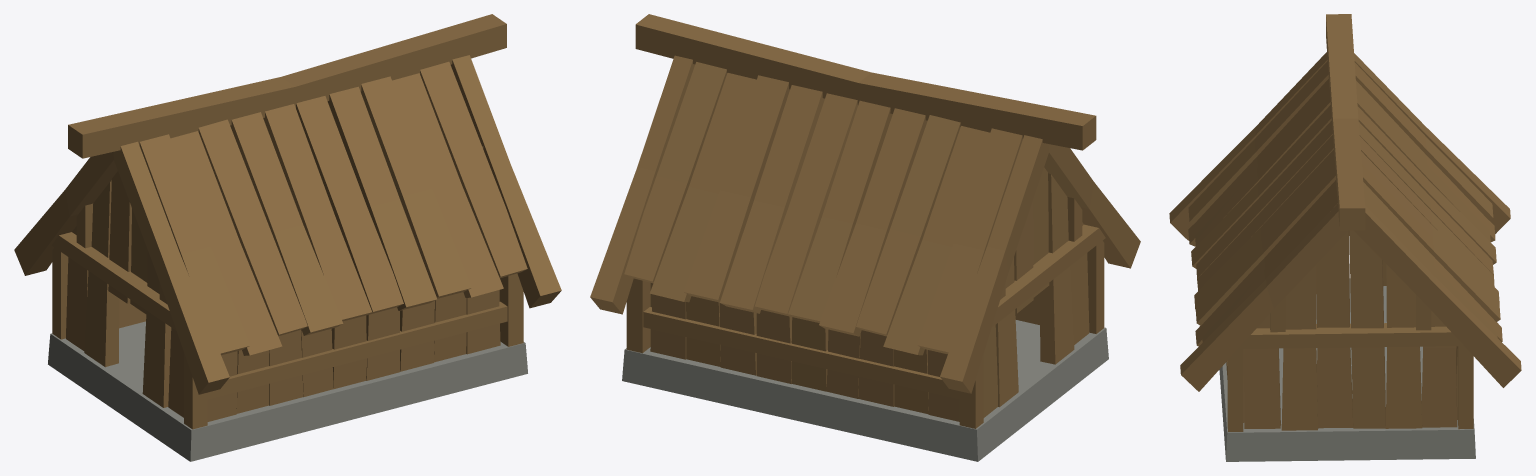
Rendered from houses_firstage_1_level3_lev1.glb.
The picture shows the model from 3 angles, left to right: view 1: azimuth 30°, elevation 25°; view 2: azimuth 150°, elevation 25°; view 3: azimuth 270°, elevation 25°; orthographic projection. The views are drawn at different scales.
Parts seen in each view (by area): view 1: houses_firstage_1_level3_lev1; view 2: houses_firstage_1_level3_lev1; view 3: houses_firstage_1_level3_lev1.
Part boxes in pixels (box(x1,y1,x2,y2)): houses_firstage_1_level3_lev1: box(14, 14, 561, 461); houses_firstage_1_level3_lev1: box(590, 14, 1140, 461); houses_firstage_1_level3_lev1: box(1169, 14, 1521, 461).
Bounding box in the file's own units: 8.3 × 5.41 × 6.35.
